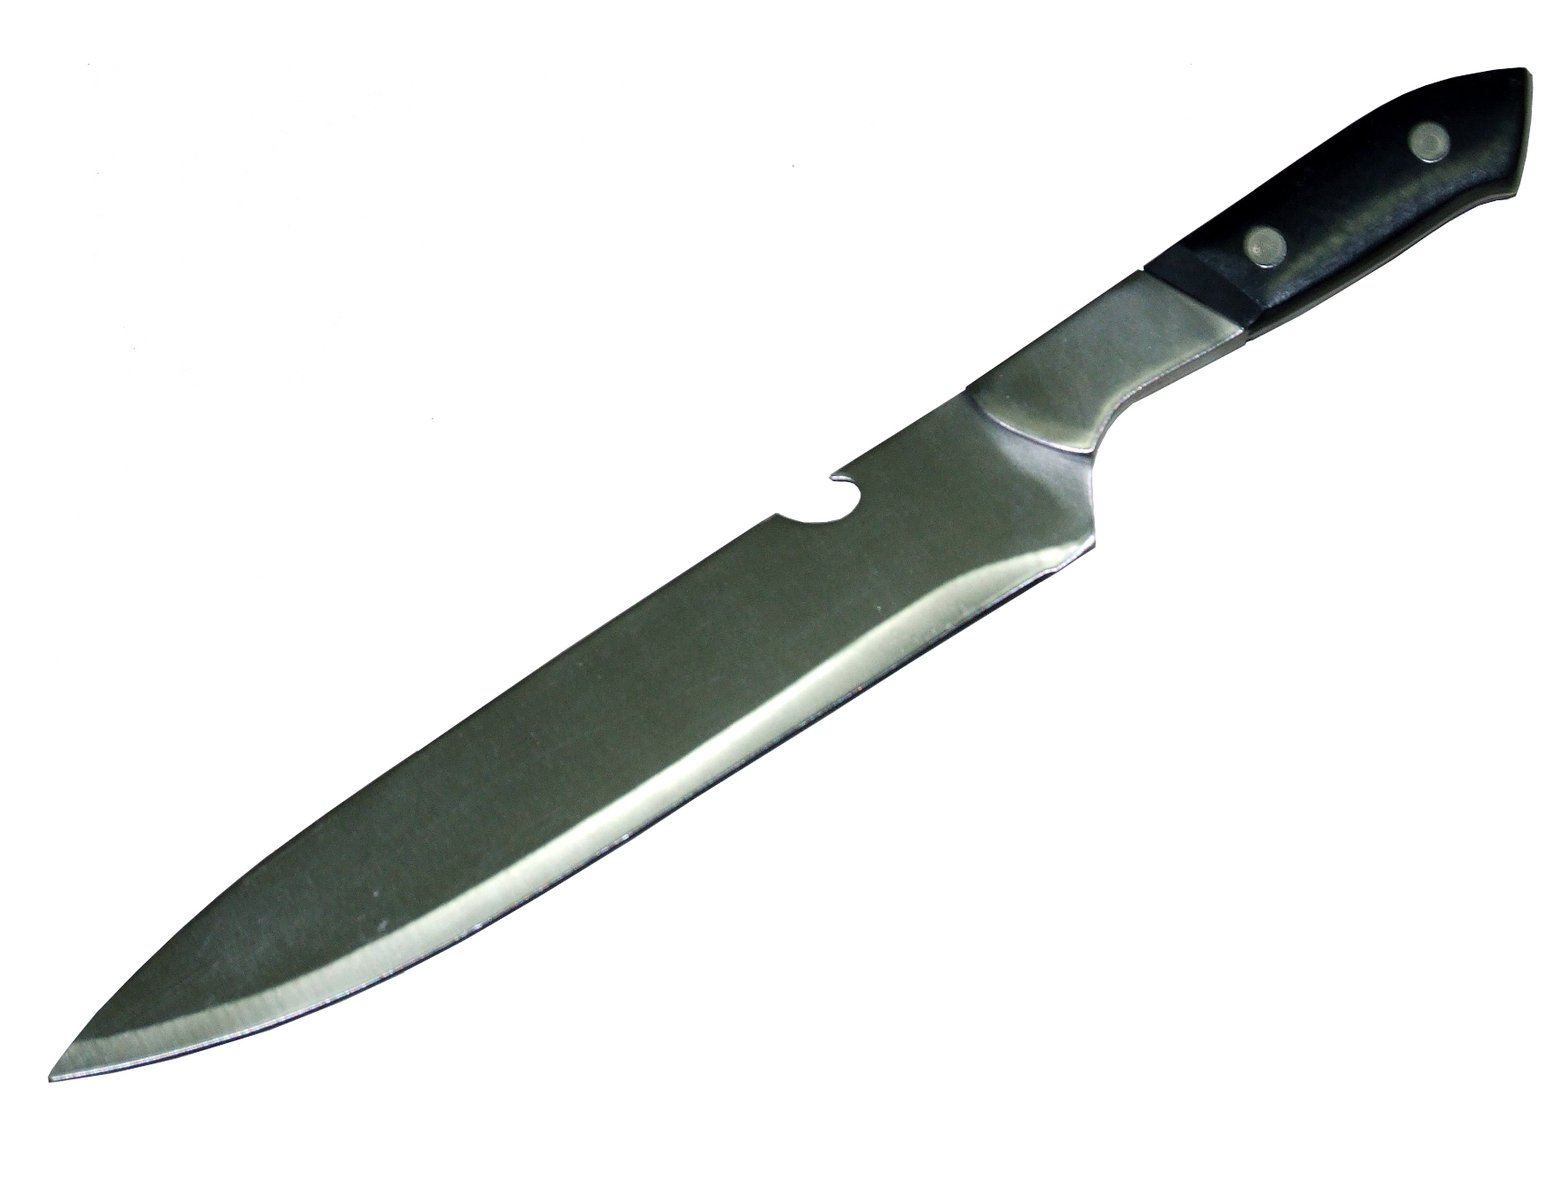knife: (42, 62, 1536, 1082)
